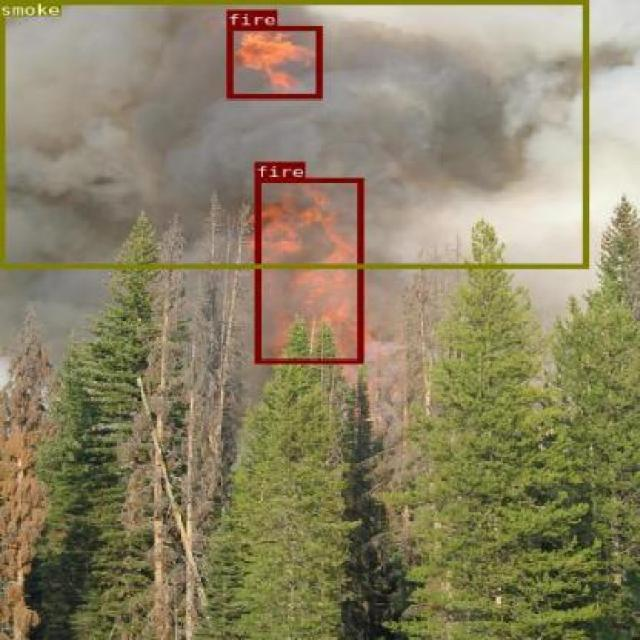Fire: (255, 177, 362, 363), (226, 25, 322, 98)
Smoke: (0, 0, 586, 268)
